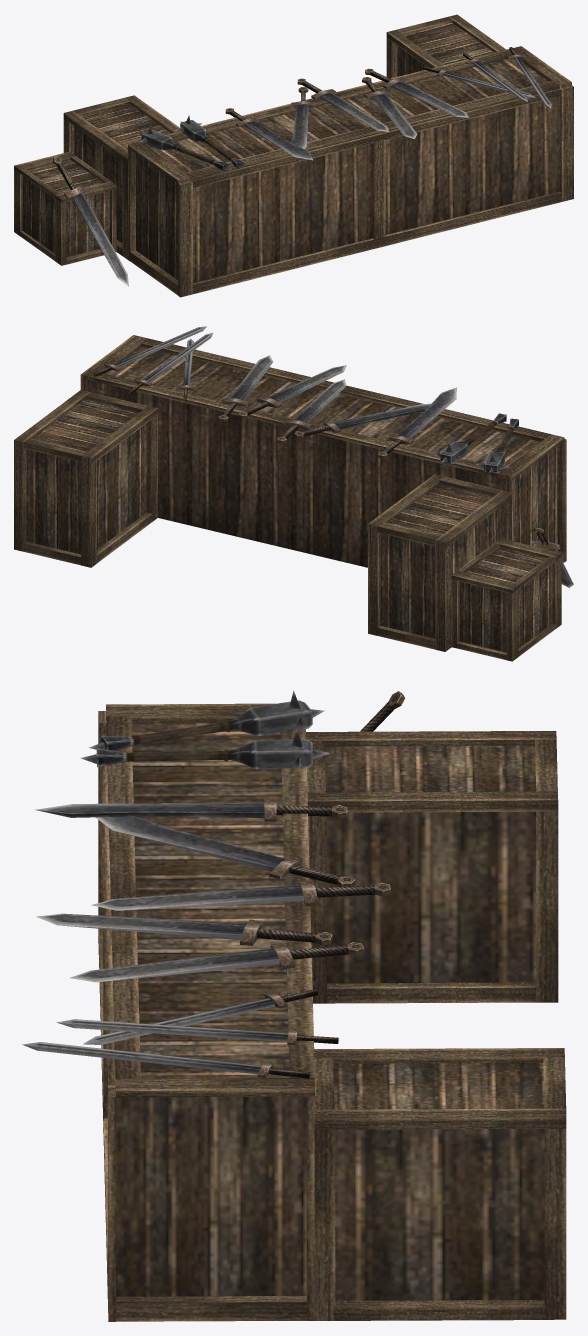
Rendered from 铁匠铺桌01.fbx.
3 views of the same model, one above another, from view 1: azimuth 30°, elevation 25°; view 2: azimuth 150°, elevation 25°; view 3: azimuth 270°, elevation 25° (orthographic). The views are drawn at different scales.
Visible parts, largest first — view 1: qingmo_obj_032 [10484228]; view 2: qingmo_obj_032 [10484228]; view 3: qingmo_obj_032 [10484228].
Part boxes in pixels (x1,y1,x2,y2): qingmo_obj_032 [10484228]: (14, 14, 573, 297); qingmo_obj_032 [10484228]: (14, 326, 573, 661); qingmo_obj_032 [10484228]: (22, 690, 566, 1321).
Size of the model in its own units: 31.36 by 16.3 by 8.76.
Materials: 1 (1 with a texture image).
